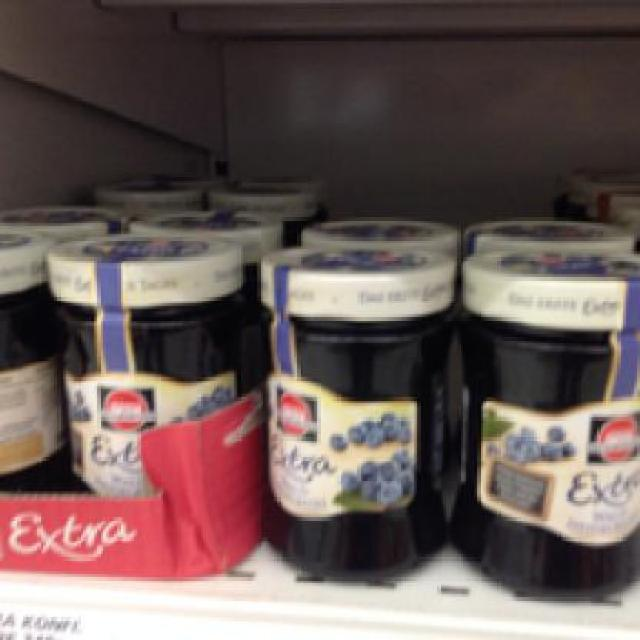Jam: (257, 243, 457, 583), (454, 242, 637, 595), (46, 232, 240, 494)
